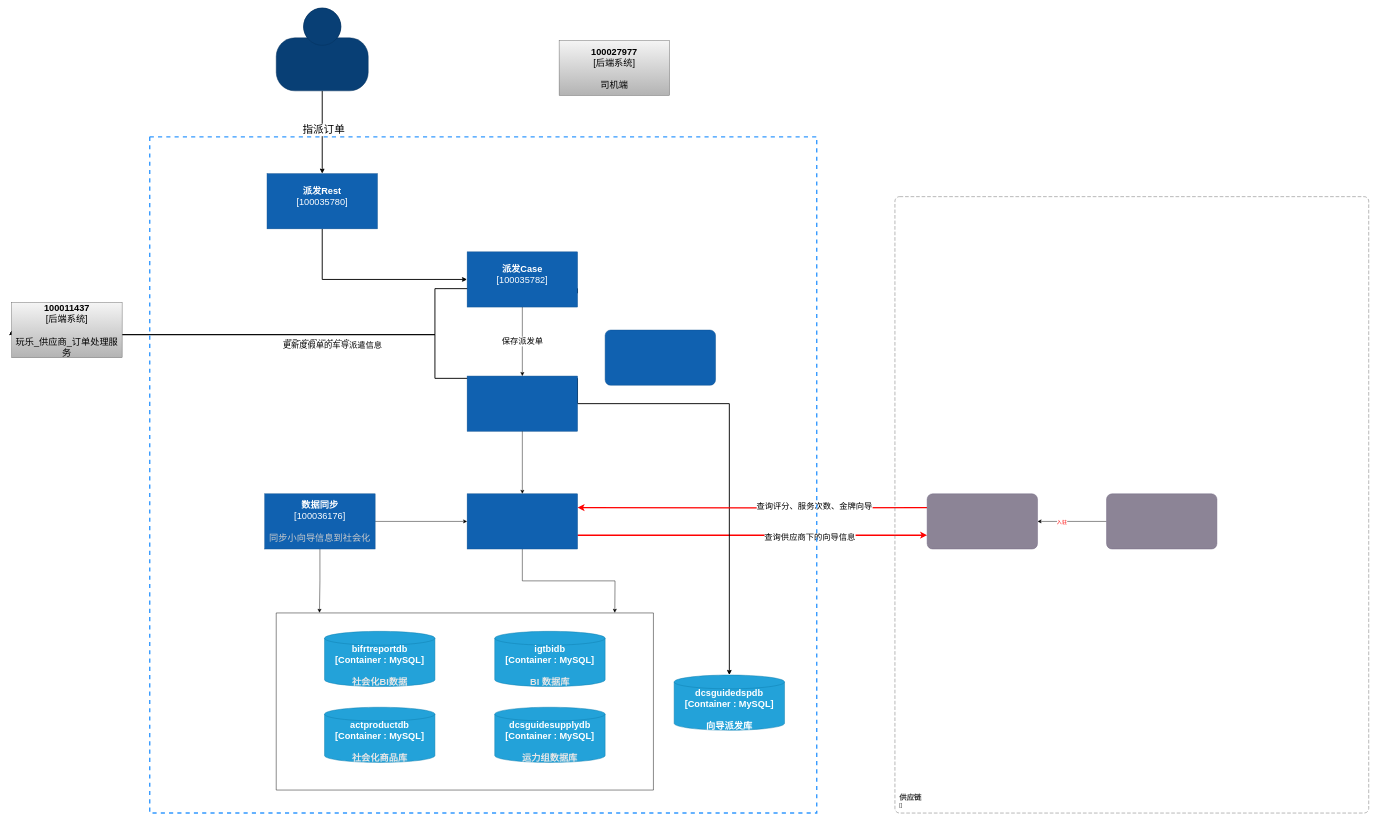
Some shapes in this 1377 by 822 pixel diagram are drawn without their labels. The shapes that lost their labels are listed below. From the top down, each one's centre as x and y in pixels, then its label:
At point (322, 49): "供应商用户 [Supplier]".
At point (660, 357): "System name [Software System] Description of software system.".
At point (522, 403): "派发Domain [100035784]".
At point (522, 521): "数据映射 [100036158] 大向导和小向导映射关系".
At point (982, 521): "供应链系统 [100035542] 向导供应链运力管理DOMIAN服务".
At point (1161, 521): "供应链入驻审核系统 [100035542] 向导供应链运力入驻DOMIAN服务".
